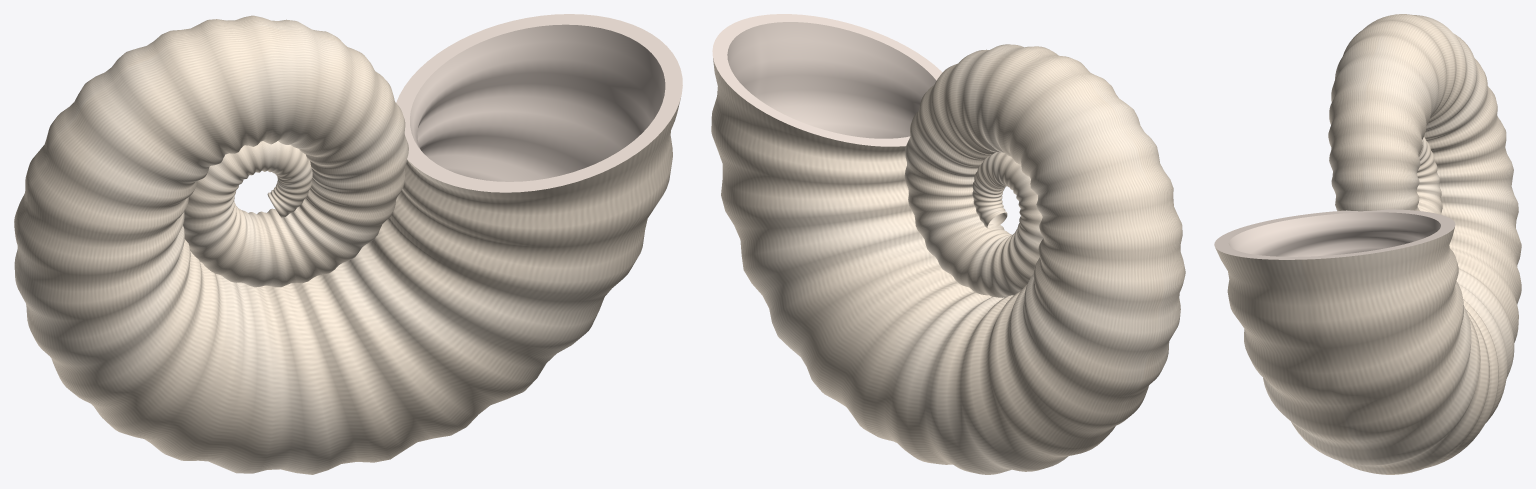
Rendered from paper-nautilus.glb.
3 renders of one model, left to right at view 1: azimuth 30°, elevation 25°; view 2: azimuth 150°, elevation 25°; view 3: azimuth 270°, elevation 25°, orthographic. The views are drawn at different scales.
Visible parts, largest first — view 1: paper-nautilus.001; view 2: paper-nautilus.001; view 3: paper-nautilus.001.
Boxes of the visible parts, left/top/right/bottom form: paper-nautilus.001: left=14, top=14, right=682, bottom=474; paper-nautilus.001: left=711, top=14, right=1185, bottom=474; paper-nautilus.001: left=1214, top=14, right=1521, bottom=474.
Size of the model in its own units: 1.92 by 1.51 by 1.09.
Materials: 3 (1 with a texture image).
